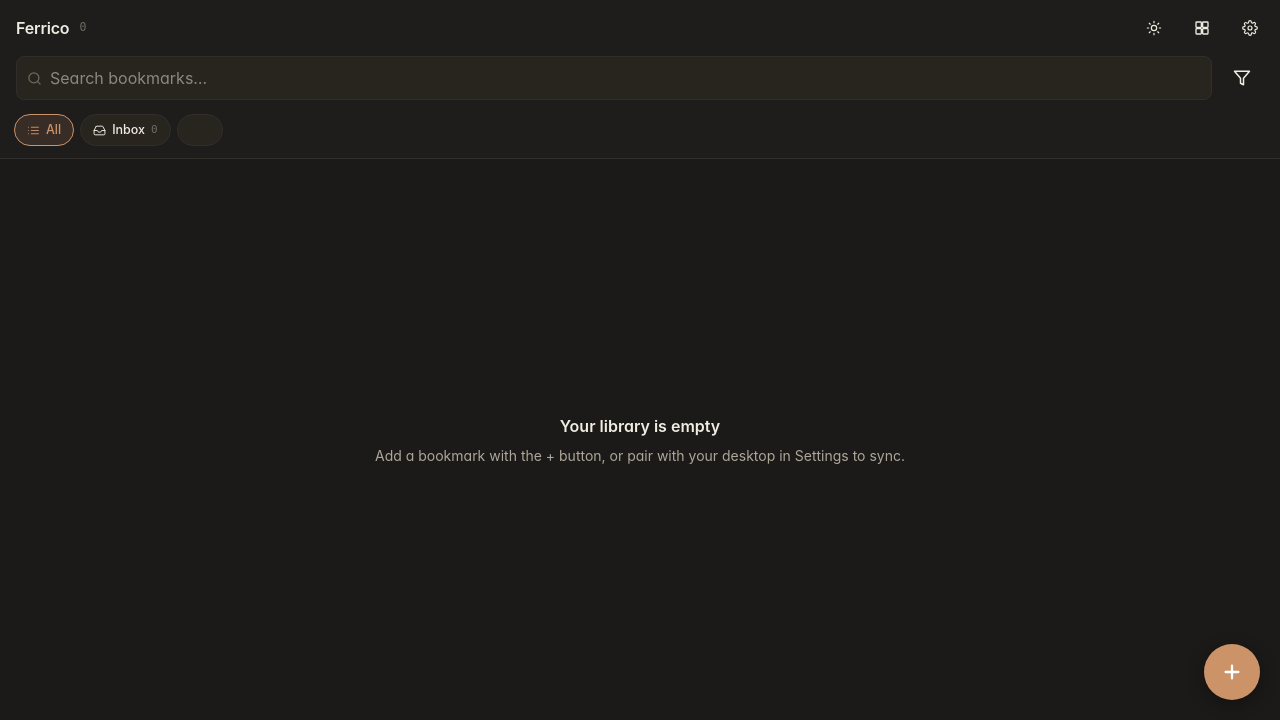
Test: MobileApp shell › offers "Clear filters" on an empty filtered view and resets scope + search
Expected: the text "Your library is empty" is shown, [560,414,720,438]
Expected: the button "Clear filters" is not shown
Type "zzz" into the search field labelled "Search bookmarks" at (626, 78), box [50,66,1201,90]
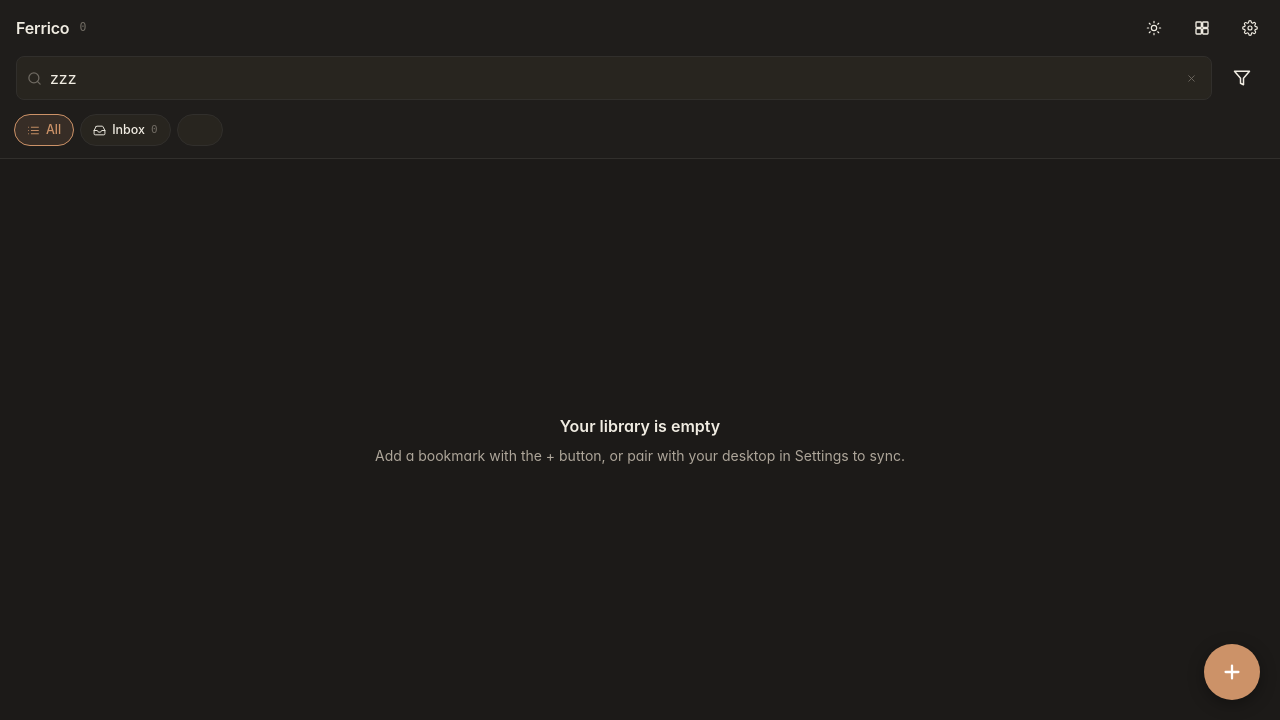
Click the button "Inbox 0" at (125, 130), box [78,108,173,152]
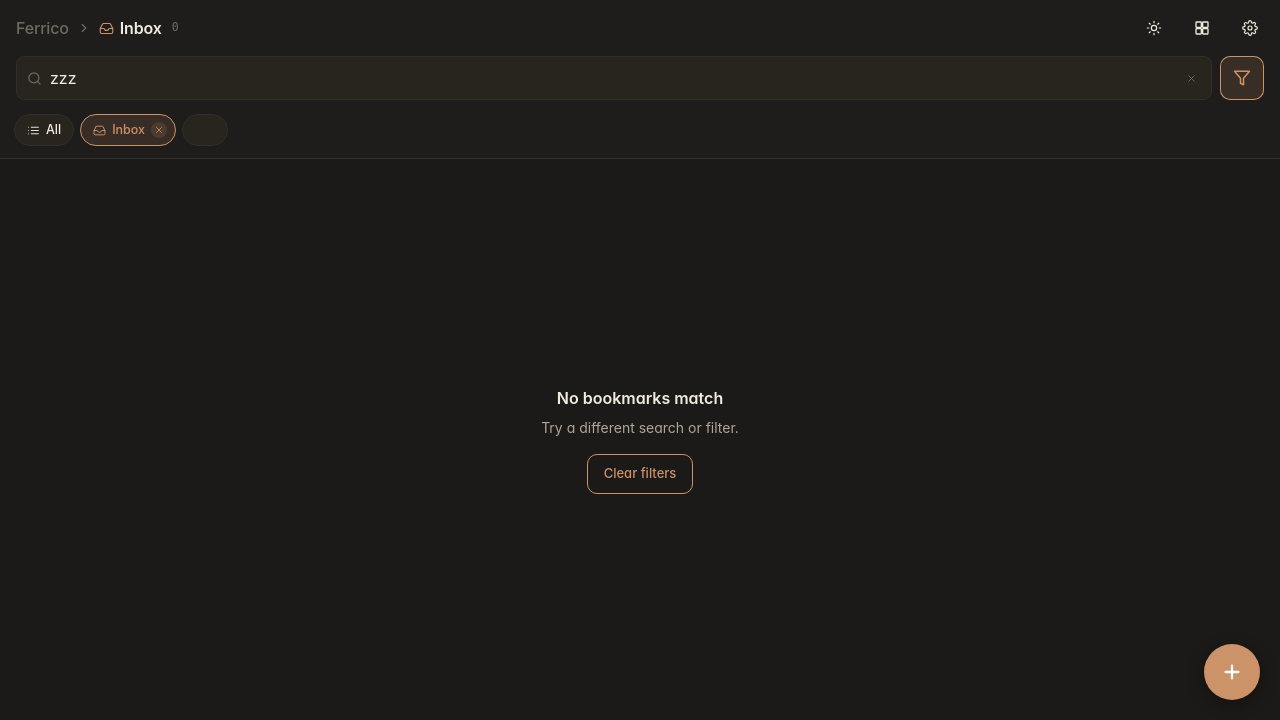
Result: the text "No bookmarks match" is shown at [557,386,723,410]
Click the button "Clear filters" at (640, 474), box [587,454,693,494]
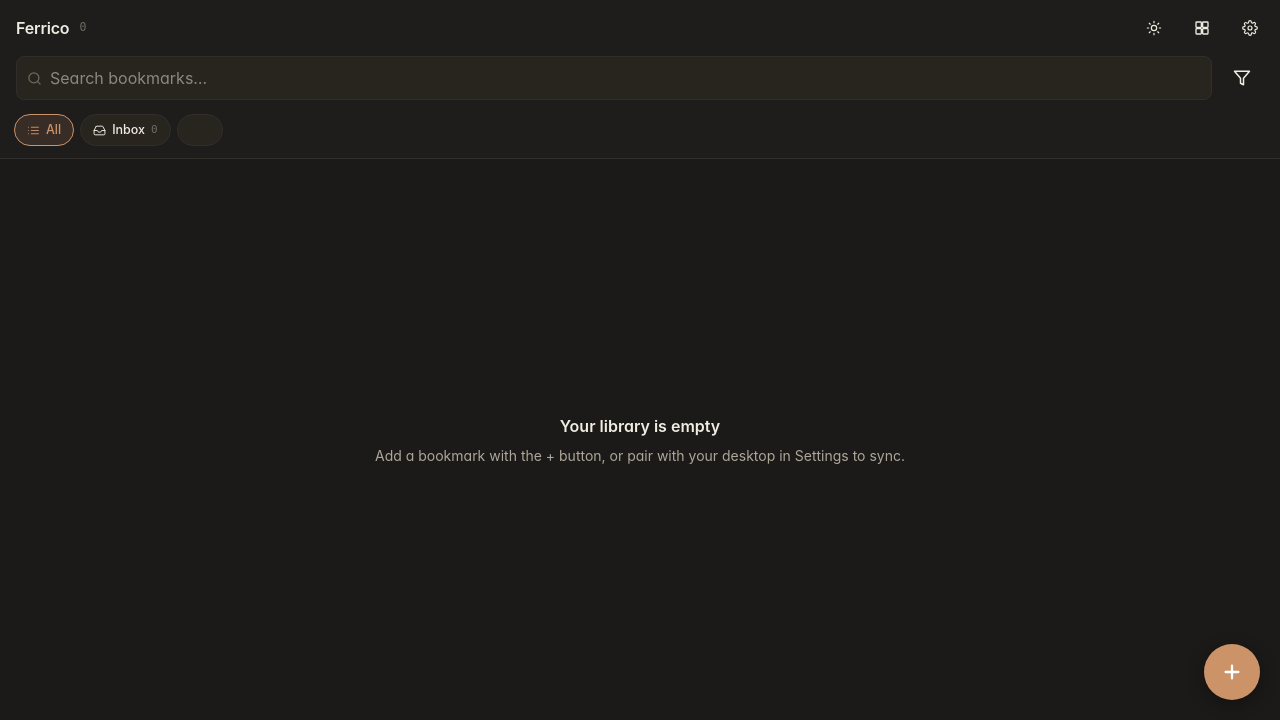
Result: the text "Your library is empty" is shown at [560,414,720,438]
Result: the search field labelled "Search bookmarks" is empty at [50,66,1201,90]
